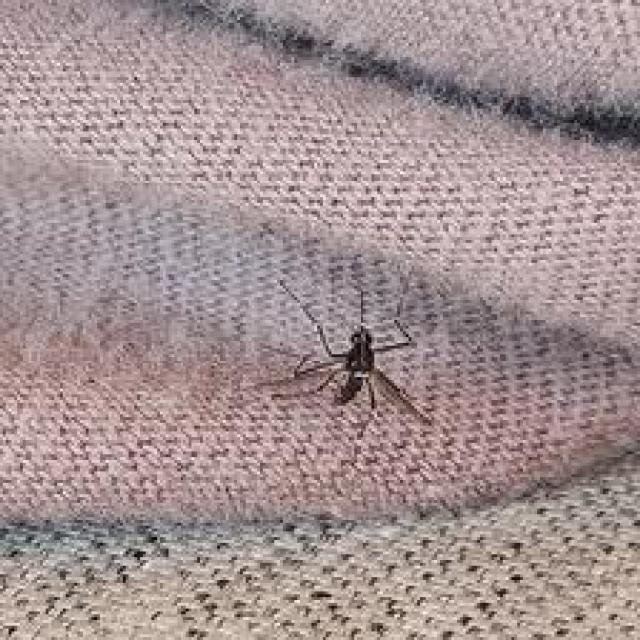Aedes albopictus: (269, 277, 434, 432)
